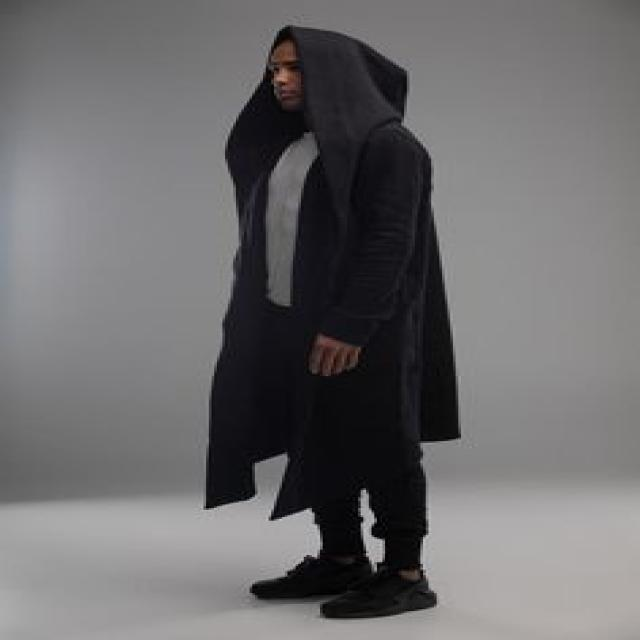4_capucha: (223, 22, 414, 137)
